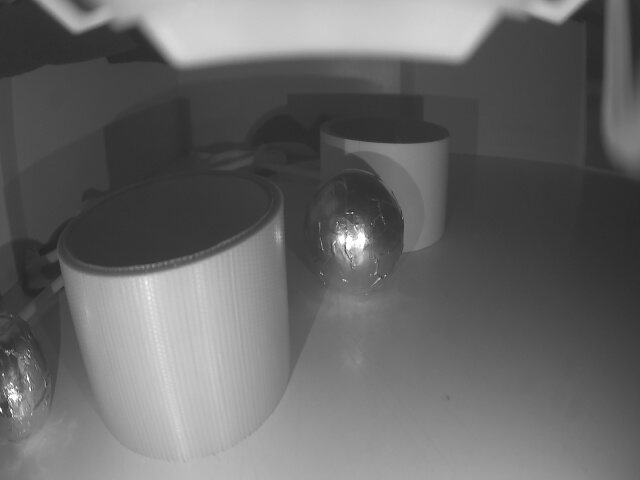Live: (306, 165, 405, 300), (0, 309, 50, 439)
